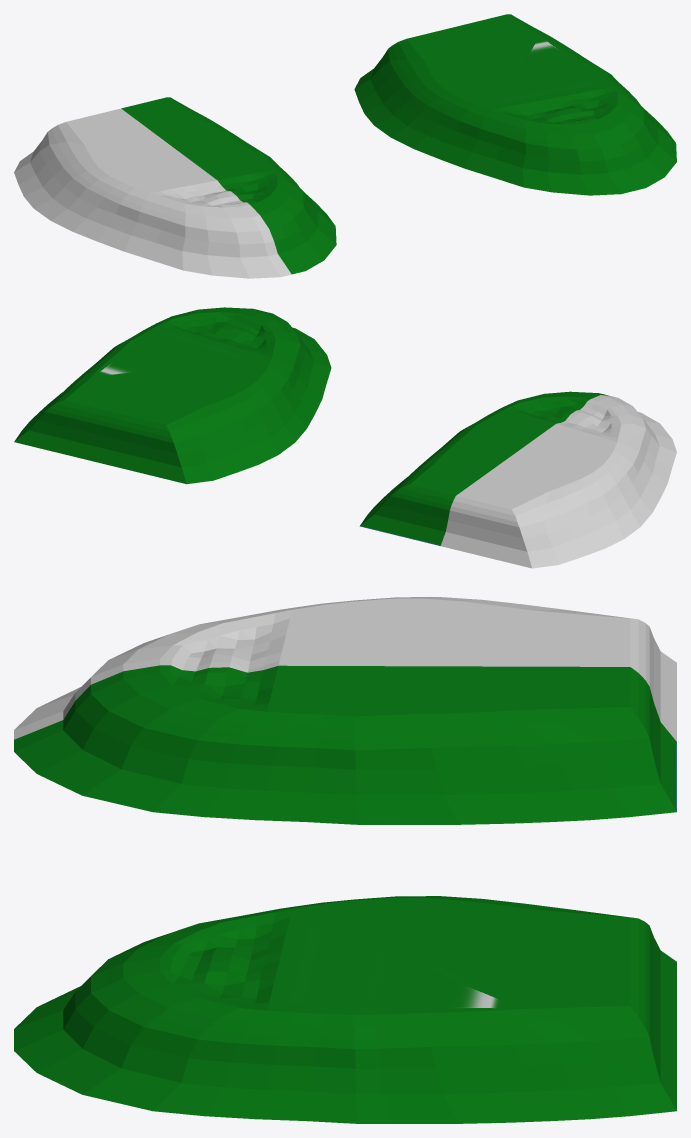
The model's file is XRD AR project.fbx.
3 renders of one model, top to bottom at view 1: azimuth 30°, elevation 25°; view 2: azimuth 150°, elevation 25°; view 3: azimuth 270°, elevation 25°, orthographic. The views are drawn at different scales.
Parts seen in each view (by area): view 1: Cube, Left, Right; view 2: Cube, Left, Right; view 3: Cube, Right, Left.
Part boxes in pixels (x1,y1,x2,y2): Cube: [354, 14, 676, 195]; Left: [14, 108, 291, 278]; Right: [121, 97, 336, 274]; Cube: [14, 307, 331, 484]; Left: [440, 395, 676, 568]; Right: [359, 391, 608, 545]; Cube: [14, 896, 676, 1123]; Right: [14, 665, 676, 824]; Left: [14, 597, 676, 741].
Size of the model in its own units: 2995 by 206 by 1696.
